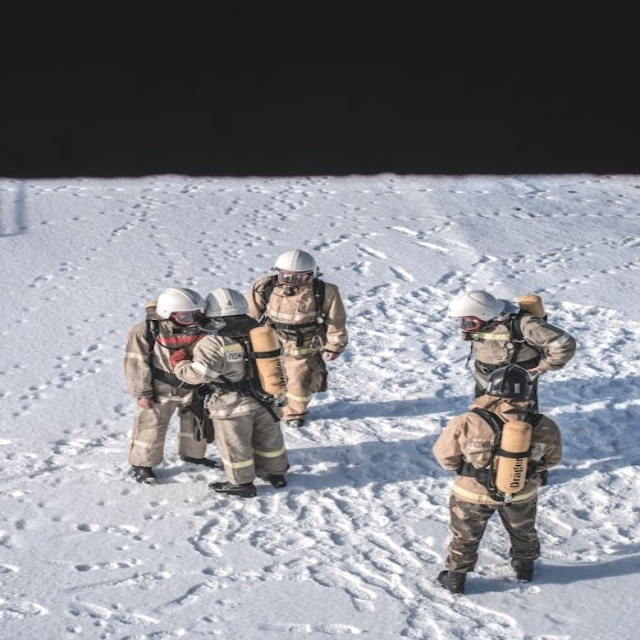Mascara: (165, 309, 209, 337), (274, 267, 316, 294), (449, 315, 485, 342)
Sin_guantes: (320, 347, 342, 363), (526, 365, 548, 378), (137, 397, 154, 410)
